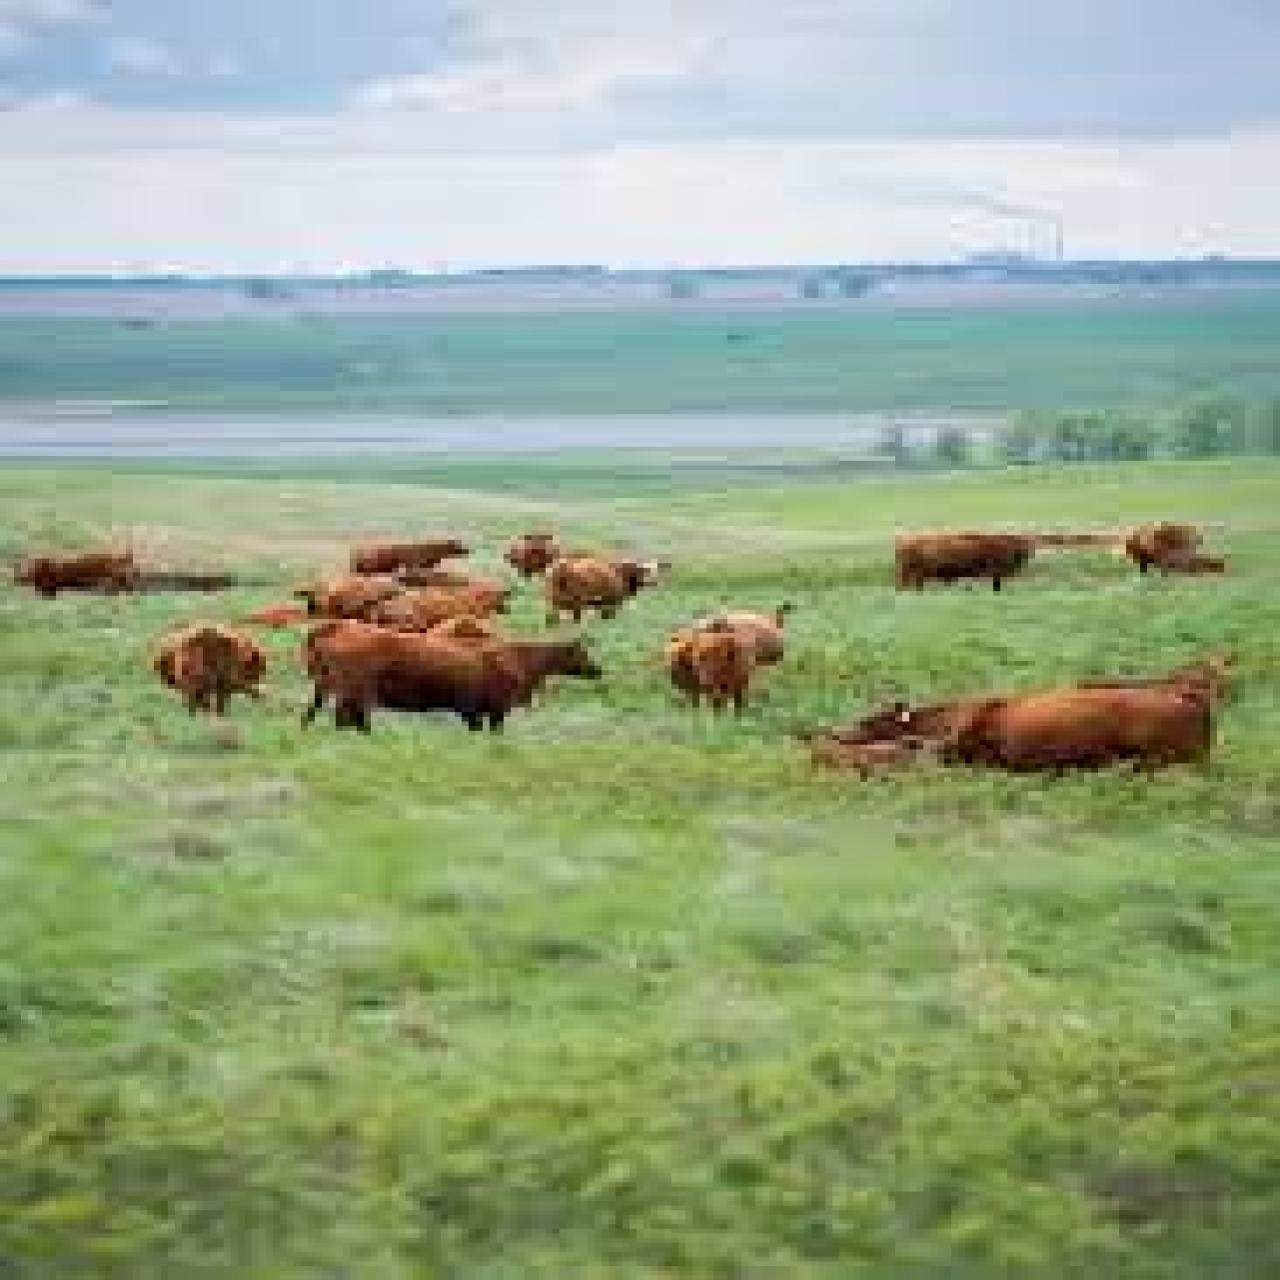cow: (822, 692, 1234, 789), (284, 626, 605, 747), (143, 619, 284, 722), (672, 605, 790, 712), (896, 520, 1035, 591), (552, 551, 672, 621), (18, 543, 150, 602), (367, 581, 515, 628), (353, 533, 479, 584), (1126, 520, 1196, 577), (290, 583, 395, 619), (497, 531, 559, 577)
